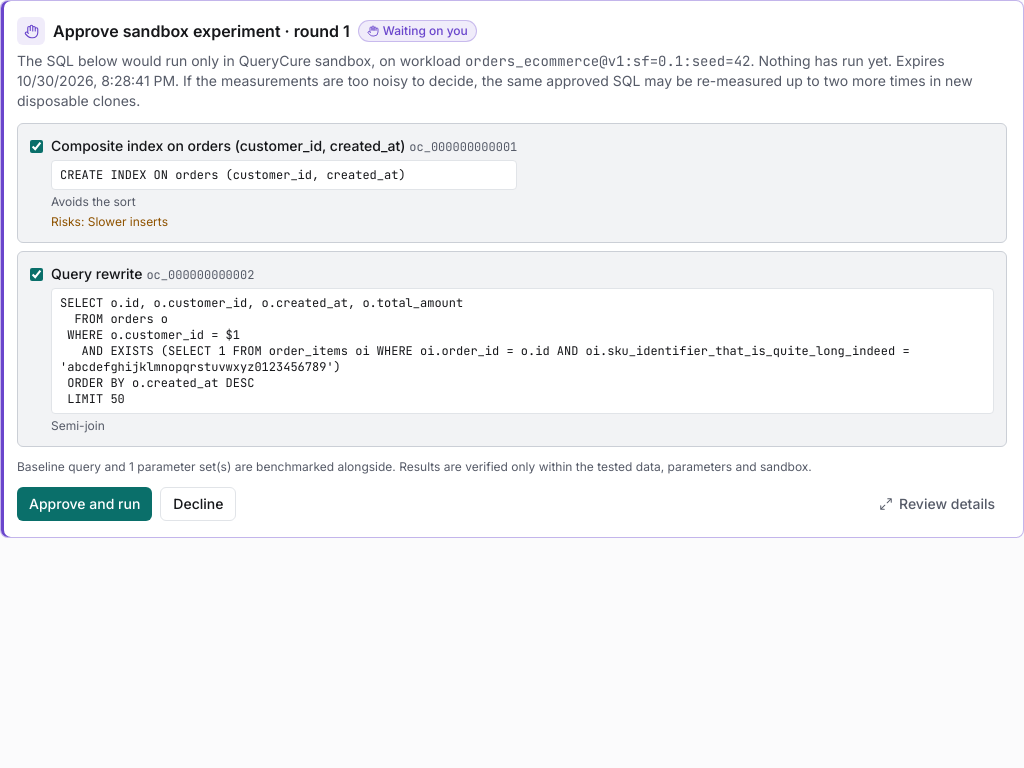
Scenario: a pending request turns expired at its deadline without waiting for the next clock tick
Click the button "Review details": {"x": 937, "y": 504} top-left (867, 487), bottom-right (1007, 521)
Wait 3500 ms
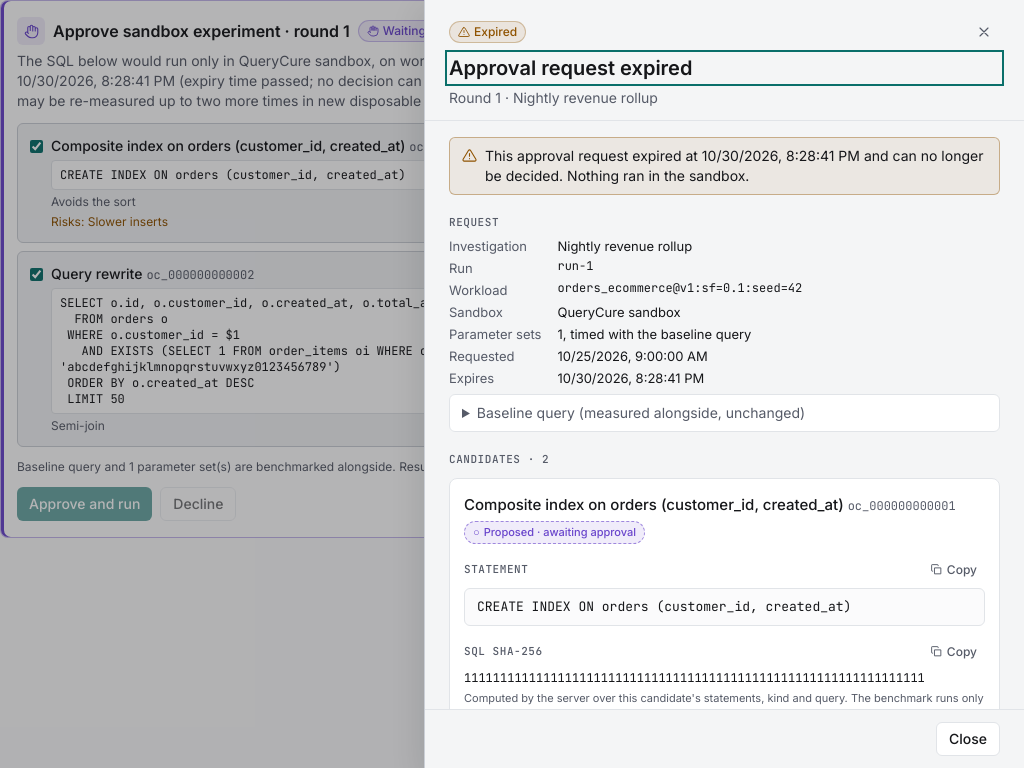
Now the dialog named "Benchmark 2 changes in a sandbox?" is shown, box top-left (424, 0), bottom-right (1023, 767)
Now the button "Close" is shown, box top-left (936, 722), bottom-right (1000, 756)
